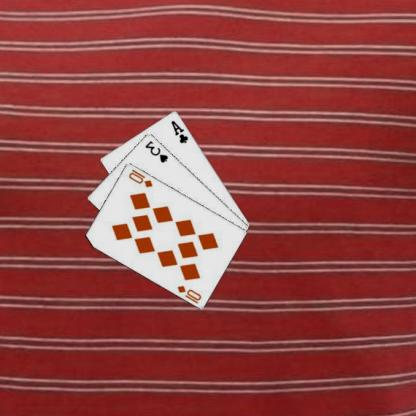10D: (176, 282, 204, 305), (128, 166, 156, 188)
3S: (144, 138, 171, 164)
AC: (170, 118, 191, 144)
